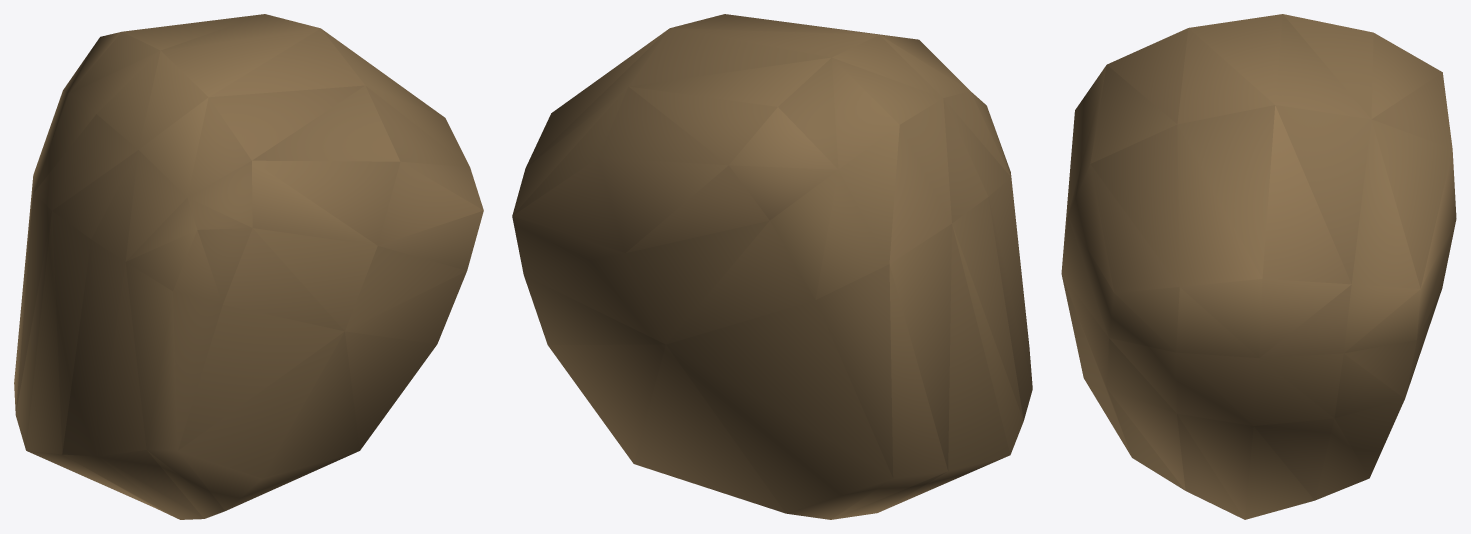
File: SmallSandChunk.009.glb
3 views of the same model, side by side, from view 1: azimuth 30°, elevation 25°; view 2: azimuth 150°, elevation 25°; view 3: azimuth 270°, elevation 25° (orthographic). The views are drawn at different scales.
Visible parts, largest first — view 1: SmallSandChunk.009; view 2: SmallSandChunk.009; view 3: SmallSandChunk.009.
Boxes of the visible parts, x1,y1,x2,y2 form: SmallSandChunk.009: (14,14,483,519); SmallSandChunk.009: (512,14,1032,519); SmallSandChunk.009: (1061,14,1456,519).
Size of the model in its own units: 300 by 295 by 238.
